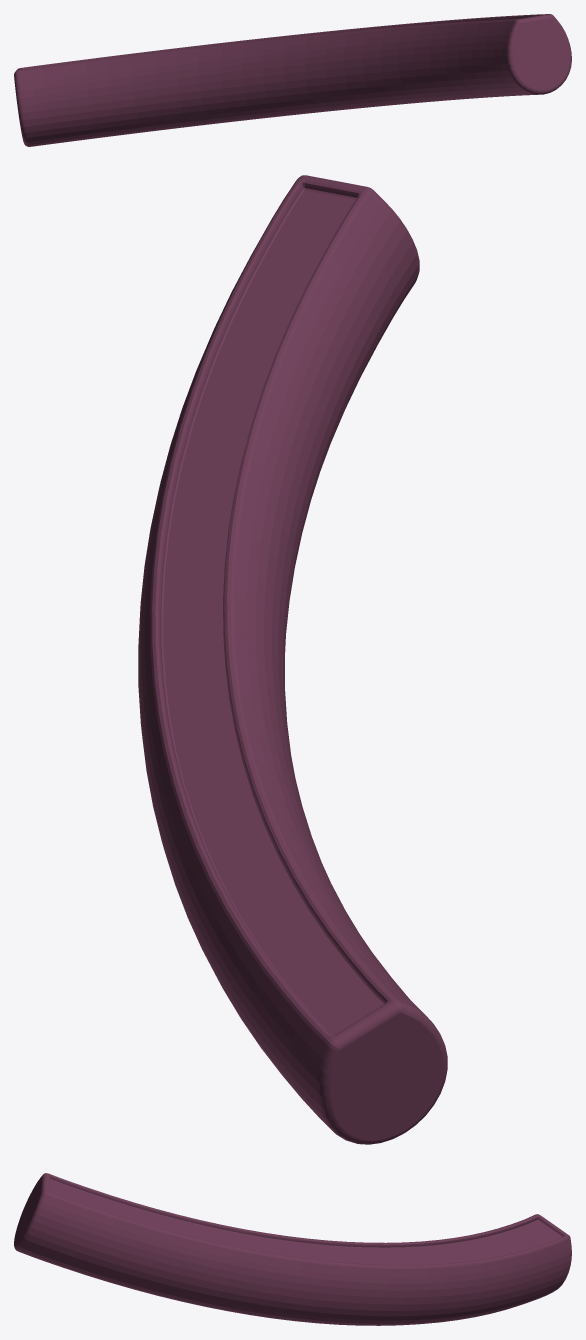
Rendered from Lampf.fbx.
The picture shows the model from 3 angles, top to bottom: view 1: azimuth 30°, elevation 25°; view 2: azimuth 150°, elevation 25°; view 3: azimuth 270°, elevation 25°; orthographic projection. The views are drawn at different scales.
Parts seen in each view (by area): view 1: BeInspiration_69:Circle005; view 2: BeInspiration_69:Circle005; view 3: BeInspiration_69:Circle005.
Part boxes in pixels (<box>): BeInspiration_69:Circle005: <box>14,14,571,146</box>; BeInspiration_69:Circle005: <box>138,175,447,1144</box>; BeInspiration_69:Circle005: <box>14,1173,571,1325</box>.
Bounding box in the file's own units: 44.94 × 32.81 × 68.33.
